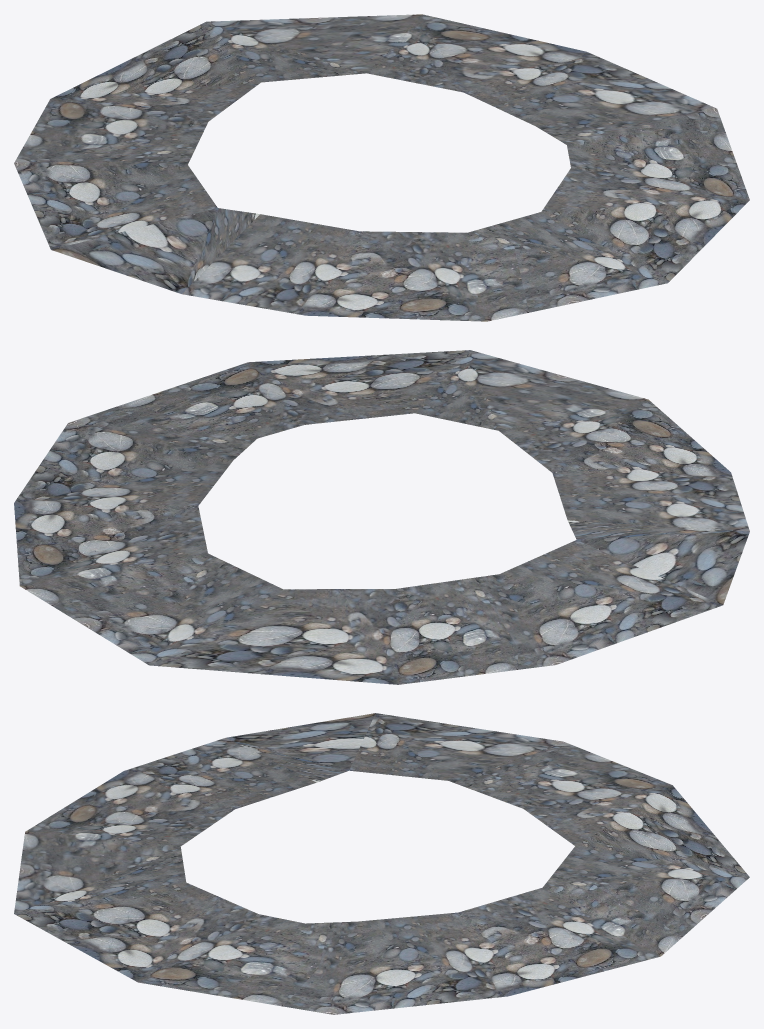
Rendered from UnderRockMesh2.fbx.
The picture shows the model from 3 angles, top to bottom: view 1: azimuth 30°, elevation 25°; view 2: azimuth 150°, elevation 25°; view 3: azimuth 270°, elevation 25°; orthographic projection. The views are drawn at different scales.
Visible parts, largest first — view 1: Plane; view 2: Plane; view 3: Plane.
Part boxes in pixels (x1,y1,x2,y2): Plane: [14, 14, 749, 321]; Plane: [14, 350, 749, 684]; Plane: [14, 713, 749, 1014].
Bounding box in the file's own units: 1.16 × 0.0253 × 1.2.
